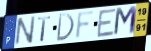D: (55, 12, 76, 43)
E: (96, 7, 117, 39)
F: (73, 10, 96, 42)
M: (113, 5, 139, 38)
N: (14, 15, 37, 47)
T: (37, 15, 52, 43)
